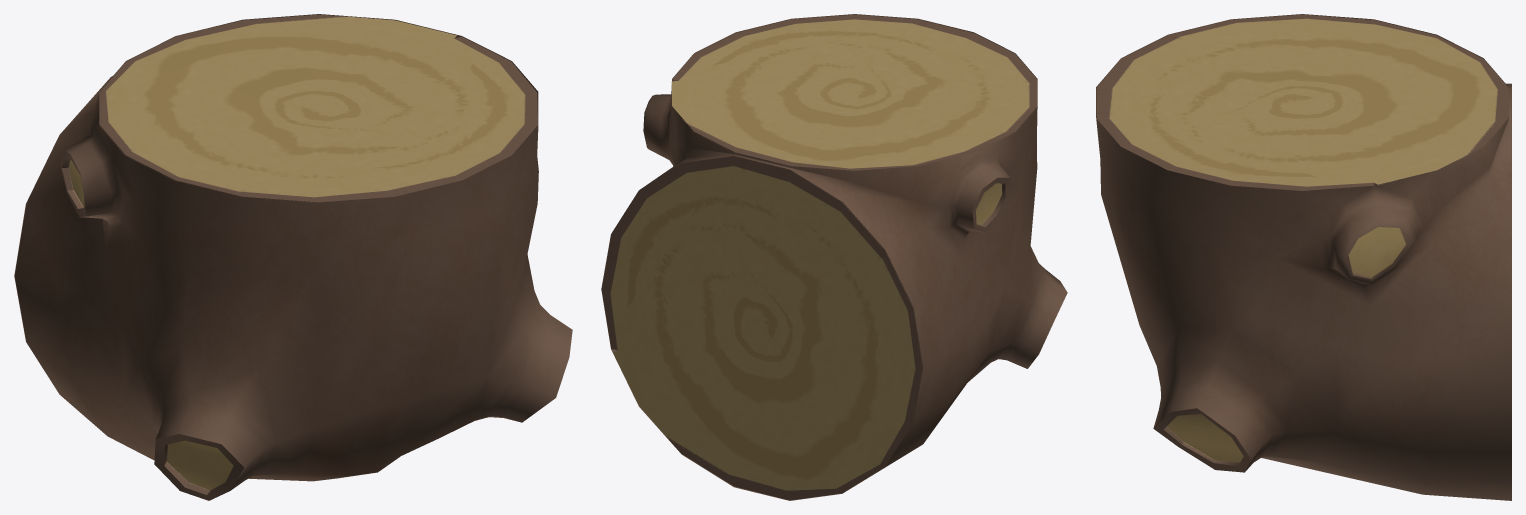
File: CORNER_WOOD.fbx
The picture shows the model from 3 angles, left to right: view 1: azimuth 30°, elevation 25°; view 2: azimuth 150°, elevation 25°; view 3: azimuth 270°, elevation 25°; orthographic projection. The views are drawn at different scales.
Parts seen in each view (by area): view 1: CORNER_WOOD, Log_Cap; view 2: Log_Cap003, Log_Cap, CORNER_WOOD; view 3: CORNER_WOOD, Log_Cap.
Boxes of the visible parts, x1,y1,x2,y2 form: CORNER_WOOD: (14,14,572,500); Log_Cap: (99,14,537,202); Log_Cap003: (601,155,923,500); Log_Cap: (671,14,1037,170); CORNER_WOOD: (601,14,1067,500); CORNER_WOOD: (1096,14,1511,500); Log_Cap: (1096,14,1508,190).
Size of the model in its own units: 43.86 by 39.07 by 39.07.
